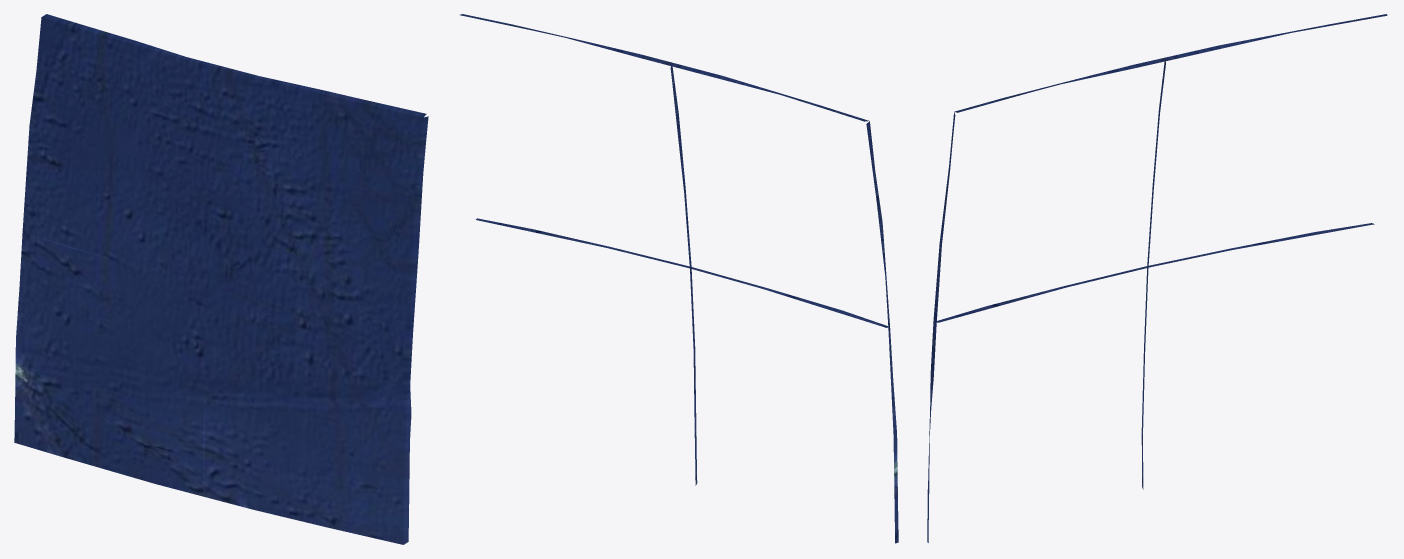
The picture shows the model from 3 angles, left to right: view 1: azimuth 30°, elevation 25°; view 2: azimuth 210°, elevation 25°; view 3: azimuth 270°, elevation 25°; orthographic projection. The views are drawn at different scales.
Size of the model in its own units: 712214 by 1252817 by 1163198.
Materials: 1 (1 with a texture image).
